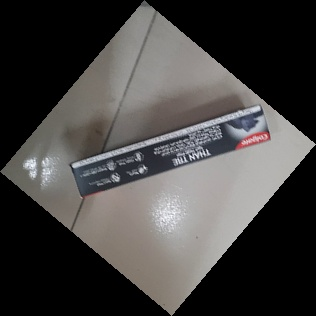Colgate Than: (69, 104, 272, 200)
